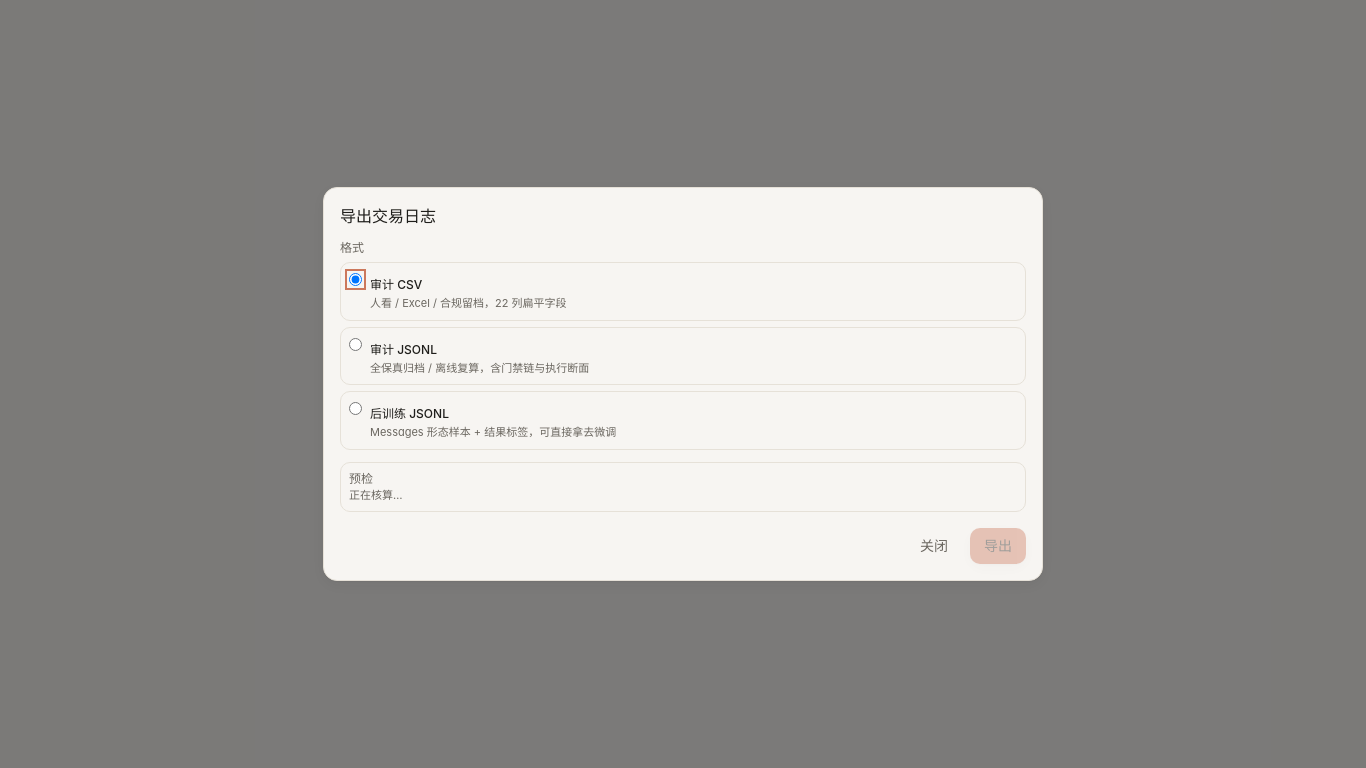
Test: JournalExportDialog › 上下文链总闸关 ⇒ full 不可选，且落到 lastTurnOnly 并说明原因
The image size is (1366, 768).
Click the radio button labelled "后训练 JSONL Messages 形态样本 + 结果标签，可直接拿去微调" at point(356, 408), box [349,402,362,415]
(page scrolled)
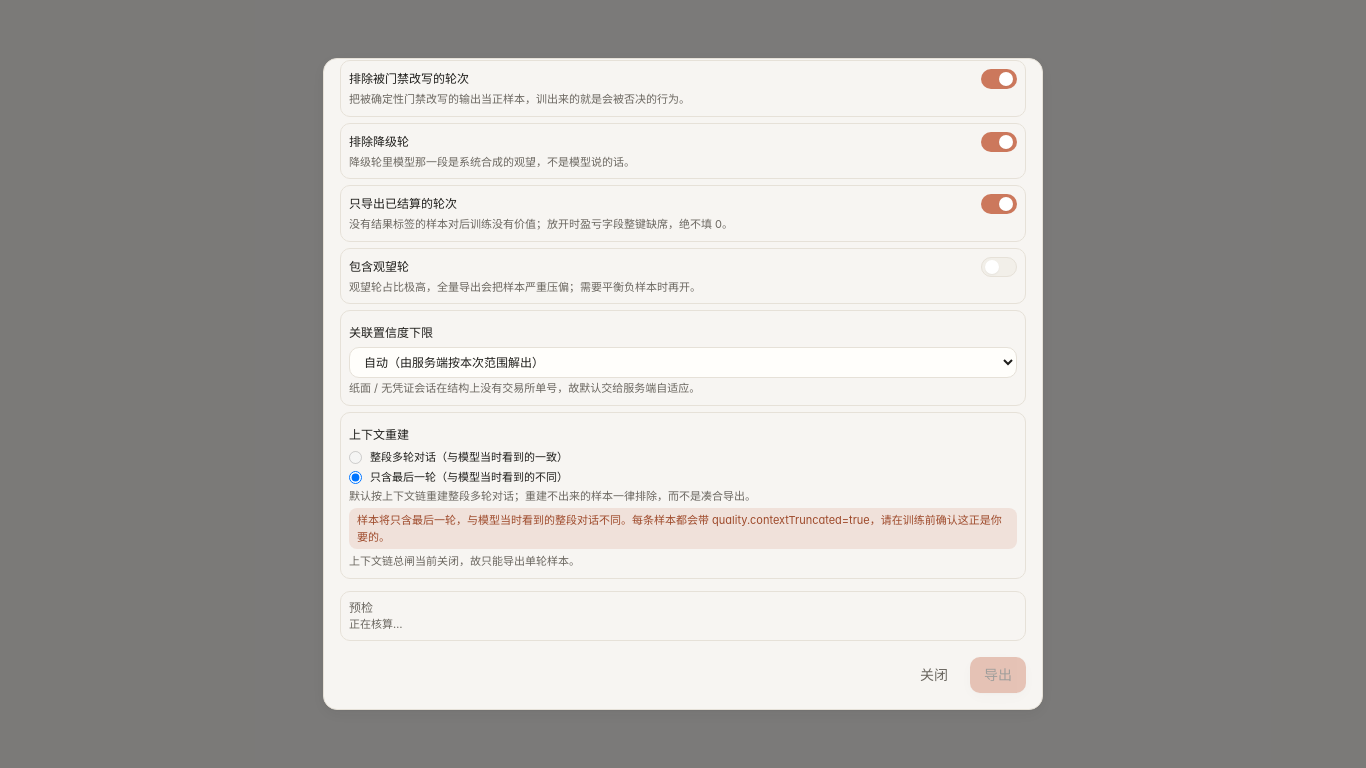
Now the radio button labelled "只含最后一轮（与模型当时看到的不同）" is checked, box [349,471,362,484]
Now the radio button labelled "整段多轮对话（与模型当时看到的一致）" is disabled, box [349,451,362,464]
Now the text "上下文链总闸当前关闭，故只能导出单轮样本。" is shown, box [349,554,580,568]
